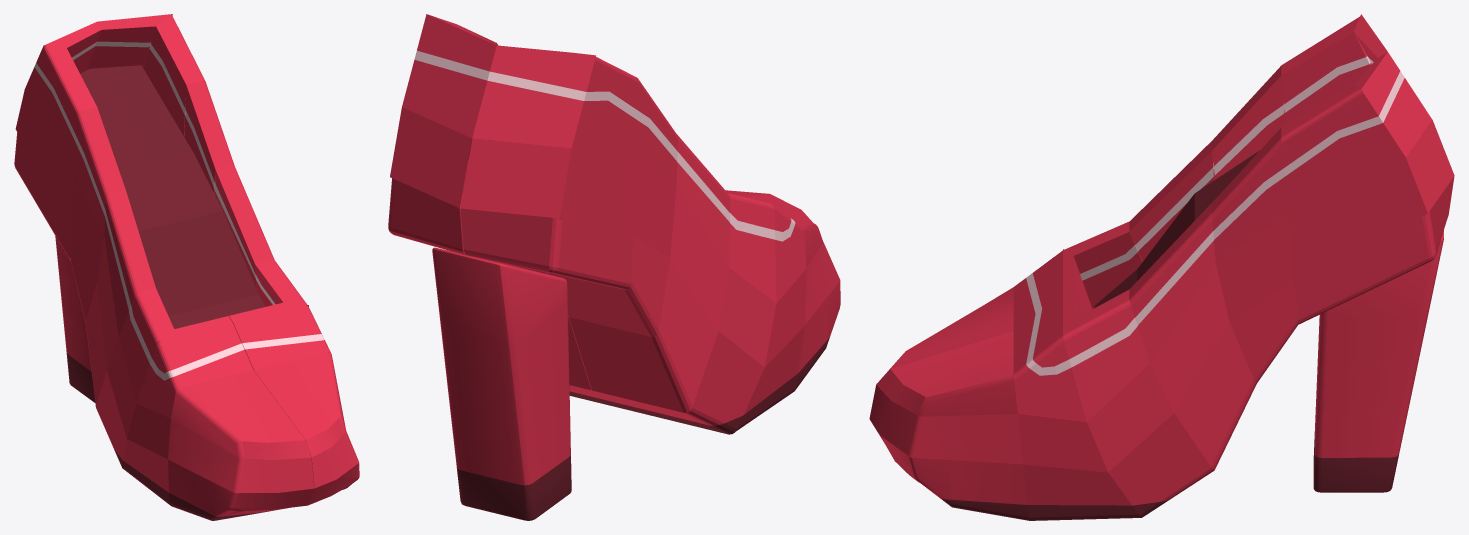
Rendered from level_14.fbx.
3 views of the same model, side by side, from view 1: azimuth 30°, elevation 25°; view 2: azimuth 150°, elevation 25°; view 3: azimuth 270°, elevation 25° (orthographic). The views are drawn at different scales.
Visible parts, largest first — view 1: Cube.052, Cube.009, Cube.050, Cube.022, Cube.037, Cube.010, Cube.051, Cube.026, Cube.011, Cube.024, Cube.038, Cube.025 (+26 smaller); view 2: Cube.015, Cube.027, Cube.017, Cube.003, Cube.029, Cube.028, Cube.004, Cube.005, Cube.016, Cube.006, Cube.014, Cube.031 (+17 smaller); view 3: Cube.030, Cube.049, Cube.037, Cube.041, Cube.036, Cube.047, Cube.044, Cube.038, Cube.032, Cube.035, Cube.033, Cube.042 (+23 smaller).
Part boxes in pixels (box(x1,y1,x2,y2)): Cube.052: box(138, 210, 258, 316); Cube.009: box(171, 370, 311, 460); Cube.050: box(80, 65, 193, 171); Cube.022: box(136, 323, 253, 418); Cube.037: box(254, 352, 346, 457); Cube.010: box(168, 419, 314, 493); Cube.051: box(119, 153, 222, 230); Cube.026: box(25, 46, 96, 172); Cube.011: box(168, 459, 313, 520); Cube.024: box(104, 191, 155, 336); Cube.038: box(233, 306, 330, 369); Cube.025: box(74, 107, 125, 234); Cube.015: box(569, 258, 718, 412); Cube.027: box(472, 45, 595, 148); Cube.017: box(460, 208, 633, 289); Cube.003: box(432, 247, 567, 344); Cube.029: box(402, 14, 496, 158); Cube.028: box(460, 138, 571, 218); Cube.004: box(441, 305, 568, 391); Cube.005: box(446, 355, 569, 438); Cube.016: box(547, 236, 669, 336); Cube.006: box(451, 405, 570, 485); Cube.014: box(593, 331, 764, 434); Cube.031: box(390, 107, 471, 207); Cube.030: box(1281, 84, 1405, 213); Cube.049: box(1288, 158, 1427, 278); Cube.037: box(876, 331, 1017, 416); Cube.041: box(1294, 176, 1454, 324); Cube.036: box(869, 385, 1023, 464); Cube.047: box(1063, 290, 1149, 421); Cube.044: box(1129, 203, 1215, 363); Cube.038: box(1013, 293, 1086, 422); Cube.032: box(1174, 323, 1256, 470); Cube.035: box(871, 422, 1029, 520); Cube.033: box(1108, 413, 1214, 517); Cube.042: box(1212, 128, 1287, 261).
Size of the model in its own units: 6.16 by 12.03 by 14.97.
